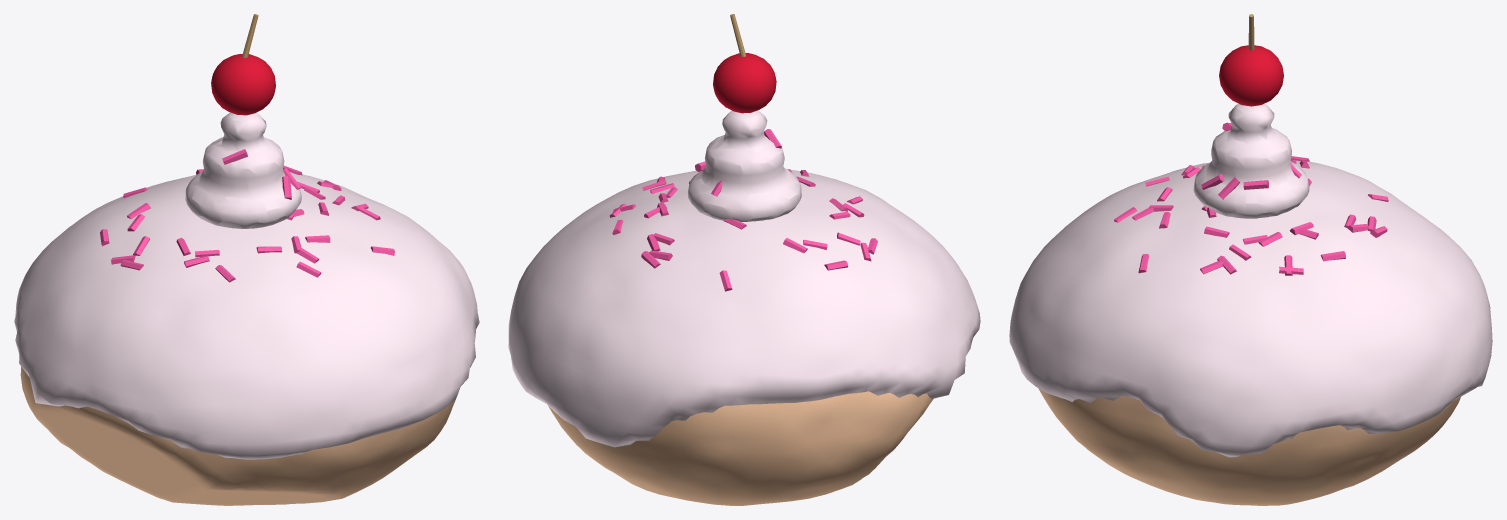
File: RockFrosted.fbx
3 views of the same model, side by side, from view 1: azimuth 30°, elevation 25°; view 2: azimuth 150°, elevation 25°; view 3: azimuth 270°, elevation 25° (orthographic). The views are drawn at different scales.
Visible parts, largest first — view 1: RockFrosted_Frosting, RockFrosted_Body, RockFrosted_Sprinkles, RockFrosted_Cherry; view 2: RockFrosted_Frosting, RockFrosted_Body, RockFrosted_Sprinkles, RockFrosted_Cherry; view 3: RockFrosted_Frosting, RockFrosted_Body, RockFrosted_Sprinkles, RockFrosted_Cherry.
Part boxes in pixels (bbox=[...]): RockFrosted_Frosting: bbox=[14, 112, 479, 459]; RockFrosted_Body: bbox=[20, 366, 460, 505]; RockFrosted_Sprinkles: bbox=[100, 149, 394, 282]; RockFrosted_Cherry: bbox=[211, 54, 275, 115]; RockFrosted_Frosting: bbox=[508, 110, 980, 447]; RockFrosted_Body: bbox=[548, 391, 933, 505]; RockFrosted_Sprinkles: bbox=[609, 129, 877, 291]; RockFrosted_Cherry: bbox=[713, 53, 776, 113]; RockFrosted_Frosting: bbox=[1009, 104, 1492, 457]; RockFrosted_Body: bbox=[1038, 388, 1460, 505]; RockFrosted_Sprinkles: bbox=[1114, 122, 1388, 275]; RockFrosted_Cherry: bbox=[1219, 45, 1283, 106].
Bounding box in the file's own units: 239 × 252 × 238.
